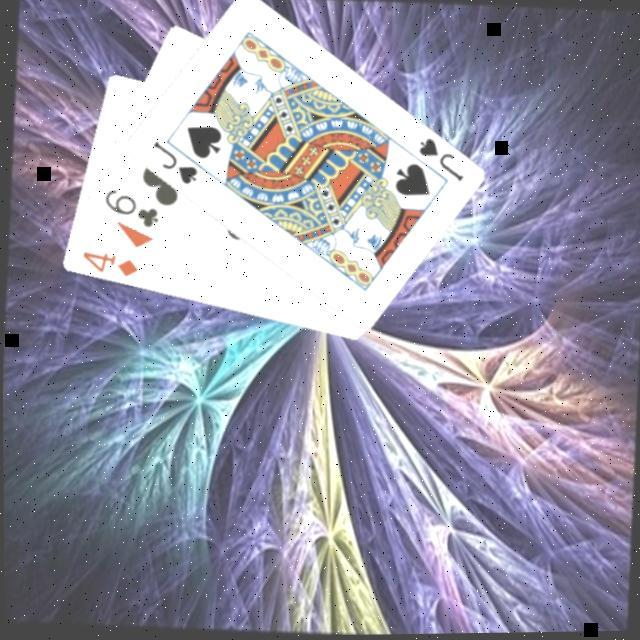4D: (75, 246, 138, 280)
6C: (97, 184, 160, 230)
JS: (411, 132, 467, 186), (146, 136, 200, 188)
